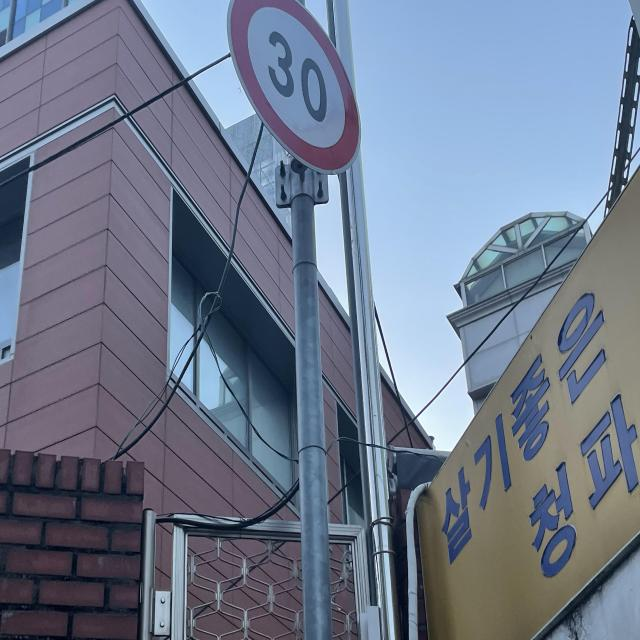Ograniczenie predkosci do 30: (228, 3, 358, 168)
